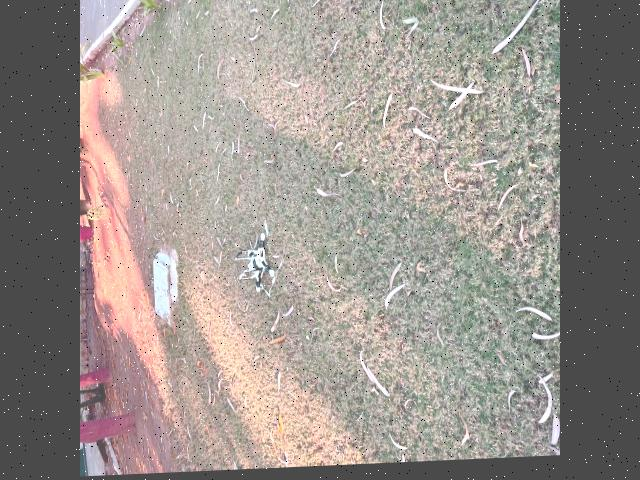drone: (215, 218, 297, 310)
